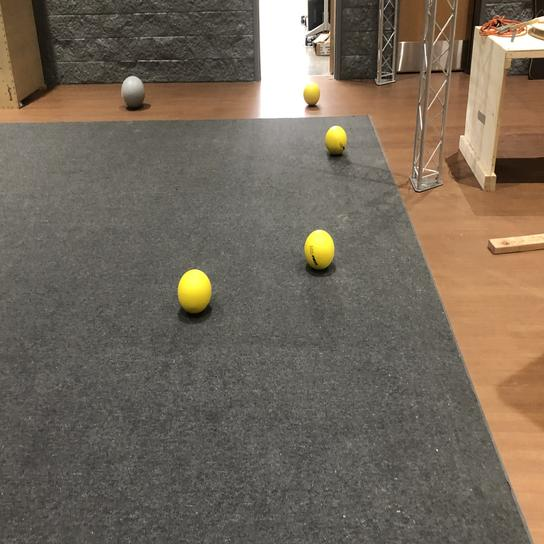ball: (172, 265, 218, 315), (302, 227, 335, 274), (323, 123, 350, 157), (297, 80, 323, 109)
